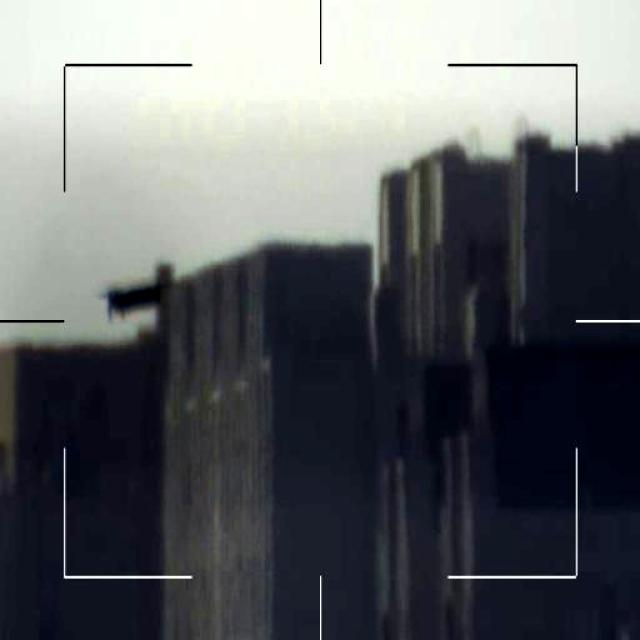bird: (108, 276, 166, 325)
